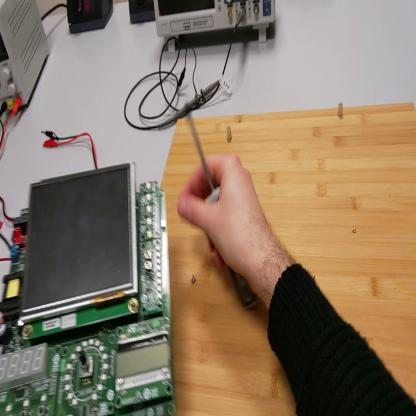hand: (178, 150, 270, 282)
low voltage board: (1, 163, 180, 416)
oscilloscope: (155, 3, 277, 55)
oscilloscope probe tip: (156, 79, 222, 134)
power supply: (2, 3, 48, 112)
screwdriver-: (187, 105, 260, 312)
socket: (67, 1, 114, 39), (130, 1, 155, 24)
working area: (162, 98, 416, 413)
